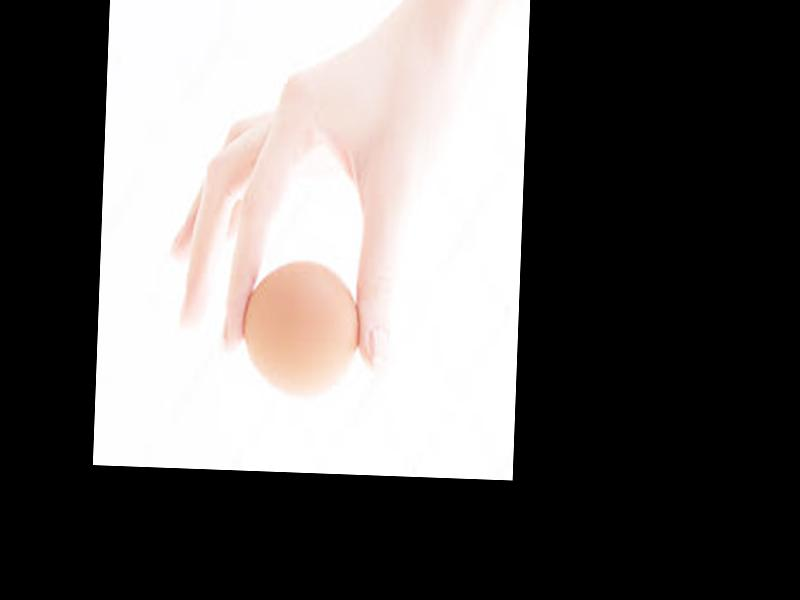Eggs: (240, 261, 362, 397)
